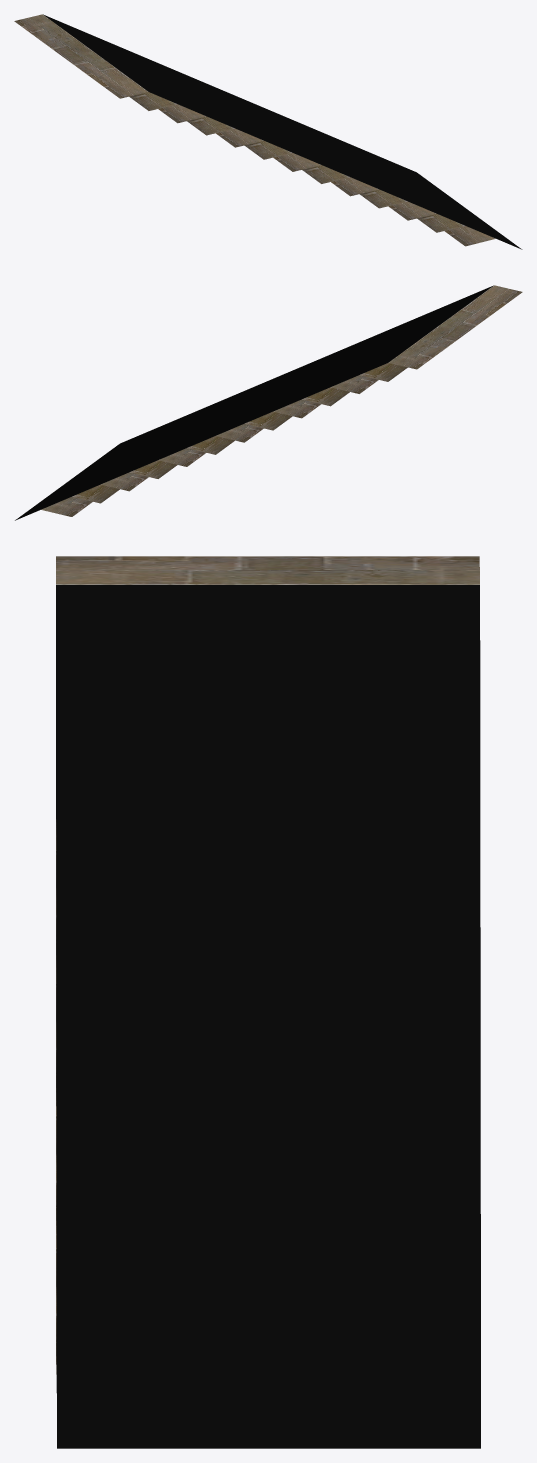
Rendered from M7Z4_Tunnel3_A.glb.
The picture shows the model from 3 angles, top to bottom: view 1: azimuth 30°, elevation 25°; view 2: azimuth 150°, elevation 25°; view 3: azimuth 270°, elevation 25°; orthographic projection. The views are drawn at different scales.
Visible parts, largest first — view 1: M7Z4_TUNNEL3_A; view 2: M7Z4_TUNNEL3_A; view 3: M7Z4_TUNNEL3_A.
Boxes of the visible parts, bbox=[...] form: M7Z4_TUNNEL3_A: bbox=[14, 14, 522, 249]; M7Z4_TUNNEL3_A: bbox=[15, 285, 522, 520]; M7Z4_TUNNEL3_A: bbox=[56, 556, 480, 1448].
Bounding box in the file's own units: 6.49 × 3.84 × 2.97.
2 materials, 1 textured.
